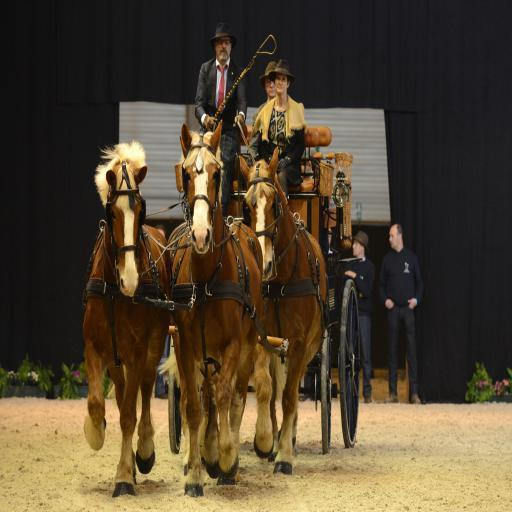horse: (159, 121, 263, 501), (80, 138, 172, 496), (236, 146, 328, 474)
